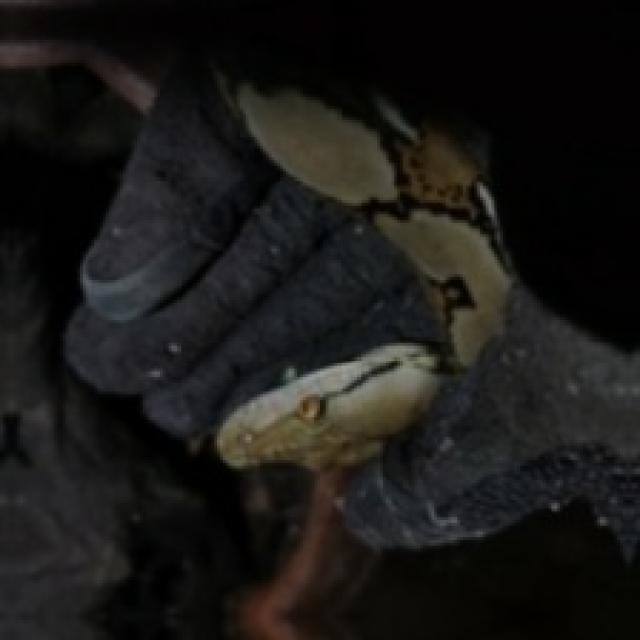reticulated python: (219, 81, 514, 468)
